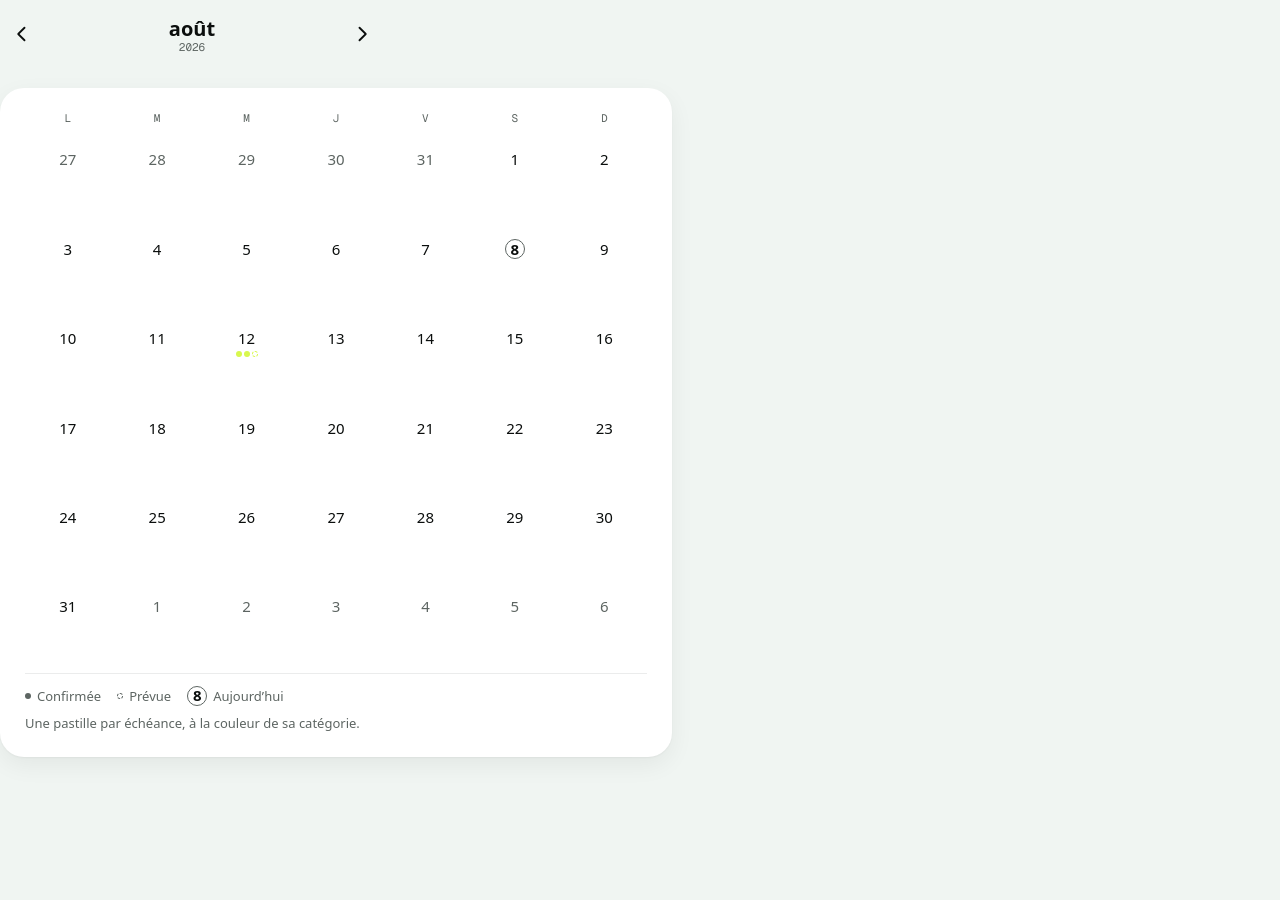
Scenario: CalendarPage — le jour ouvert › annonce le net du jour, prévu compris
Click the button "12" at coordinates (246, 350), box [204,307,289,392]
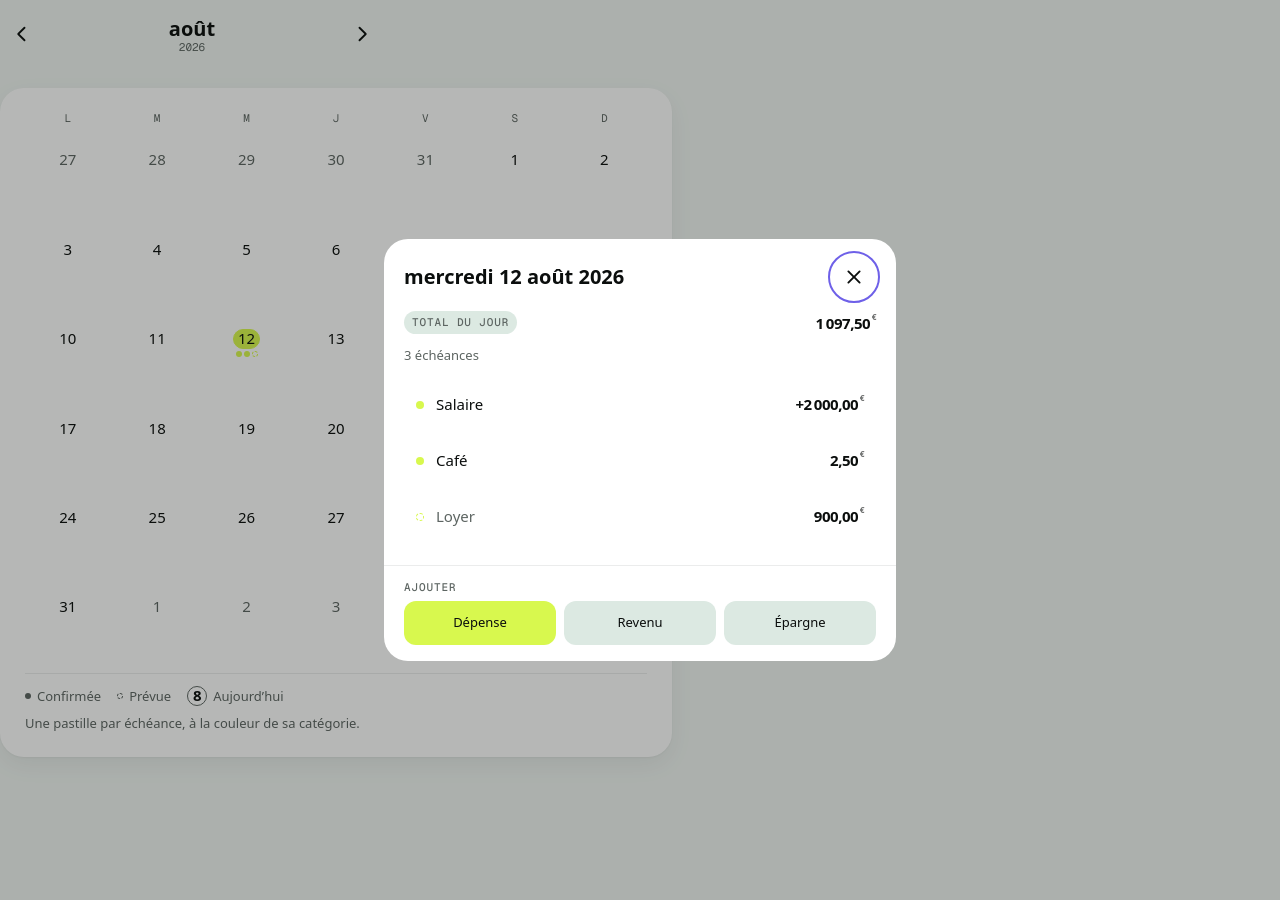
Expected: the text "Total du jour" is shown, [404,311,517,334]
